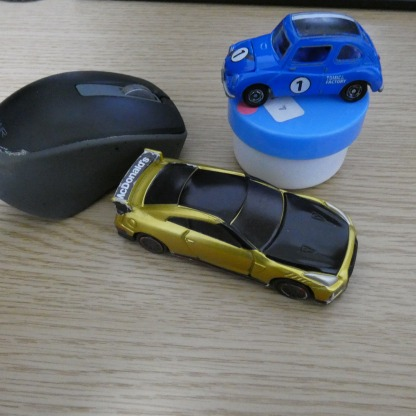car: (106, 145, 389, 303), (224, 12, 378, 109)
